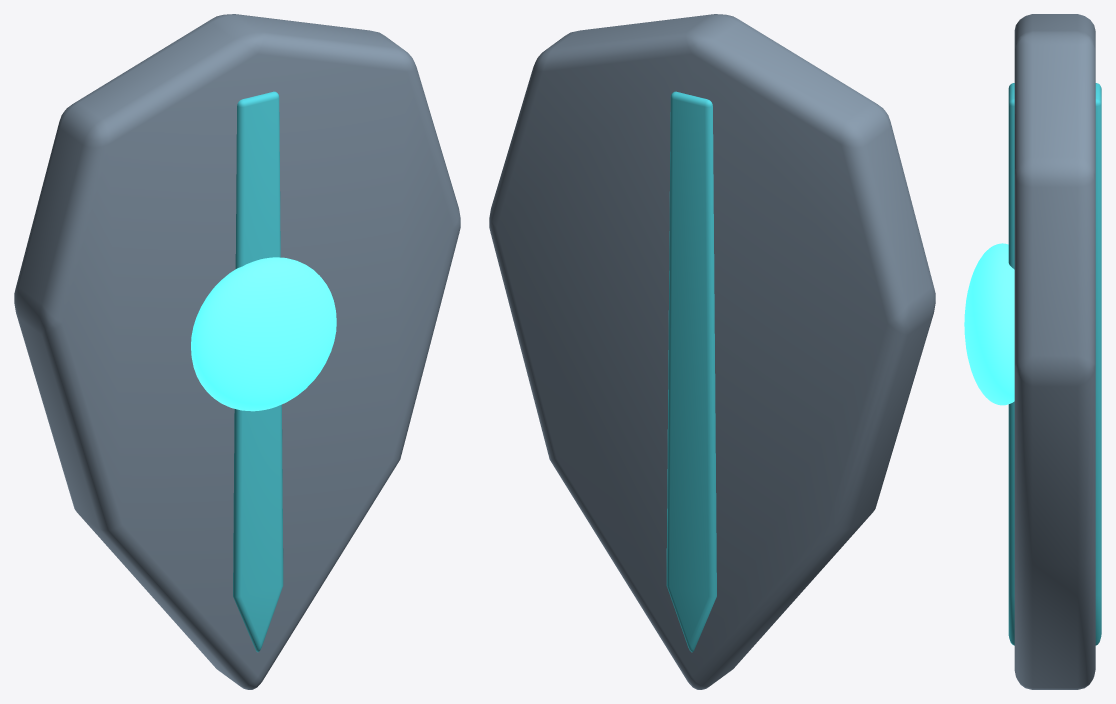
Rendered from shield_v2.glb.
3 views of the same model, side by side, from view 1: azimuth 30°, elevation 25°; view 2: azimuth 150°, elevation 25°; view 3: azimuth 270°, elevation 25° (orthographic).
Visible parts, largest first — view 1: KITE_SHIELD_PRIMARY, KITE_RIDGE_ACCENT, KITE_BOSS_EMISSIVE; view 2: KITE_SHIELD_PRIMARY, KITE_RIDGE_ACCENT; view 3: KITE_SHIELD_PRIMARY, KITE_RIDGE_ACCENT, KITE_BOSS_EMISSIVE.
Part boxes in pixels (x1,y1,x2,y2): KITE_SHIELD_PRIMARY: [14, 14, 460, 689]; KITE_RIDGE_ACCENT: [233, 91, 283, 652]; KITE_BOSS_EMISSIVE: [191, 257, 336, 411]; KITE_SHIELD_PRIMARY: [489, 14, 935, 689]; KITE_RIDGE_ACCENT: [666, 91, 716, 652]; KITE_SHIELD_PRIMARY: [1014, 14, 1095, 689]; KITE_RIDGE_ACCENT: [1008, 83, 1101, 645]; KITE_BOSS_EMISSIVE: [964, 243, 1014, 405].
Bounding box in the file's own units: 2.02 × 3.02 × 0.575.
